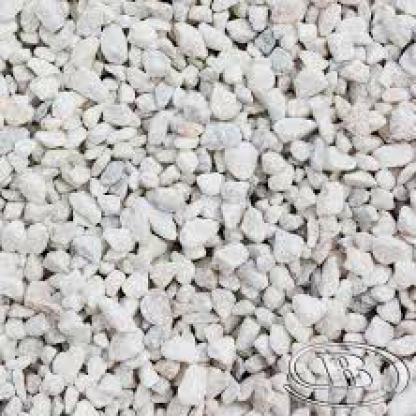Metamorphic_Marble: (58, 62, 111, 110), (167, 24, 217, 60), (219, 137, 257, 182), (198, 326, 242, 364), (17, 216, 52, 260), (354, 313, 399, 345), (208, 77, 240, 122), (270, 113, 318, 142), (206, 195, 247, 228), (230, 256, 272, 288), (66, 230, 108, 262), (60, 156, 96, 193), (313, 178, 348, 216), (140, 161, 182, 189), (146, 206, 176, 244), (289, 290, 324, 322), (144, 109, 176, 142), (345, 244, 375, 277), (390, 107, 414, 144), (322, 32, 350, 62), (56, 307, 82, 339)
